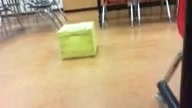cube: (57, 21, 95, 59)
